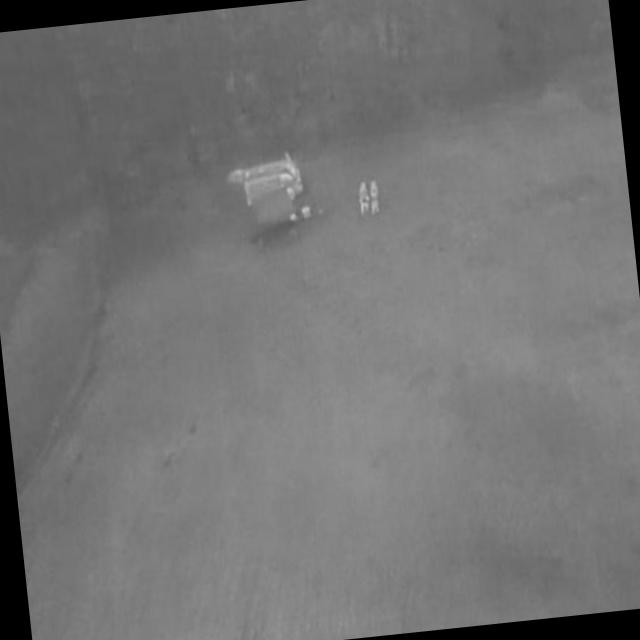person: (357, 183, 371, 217), (369, 180, 381, 214)
